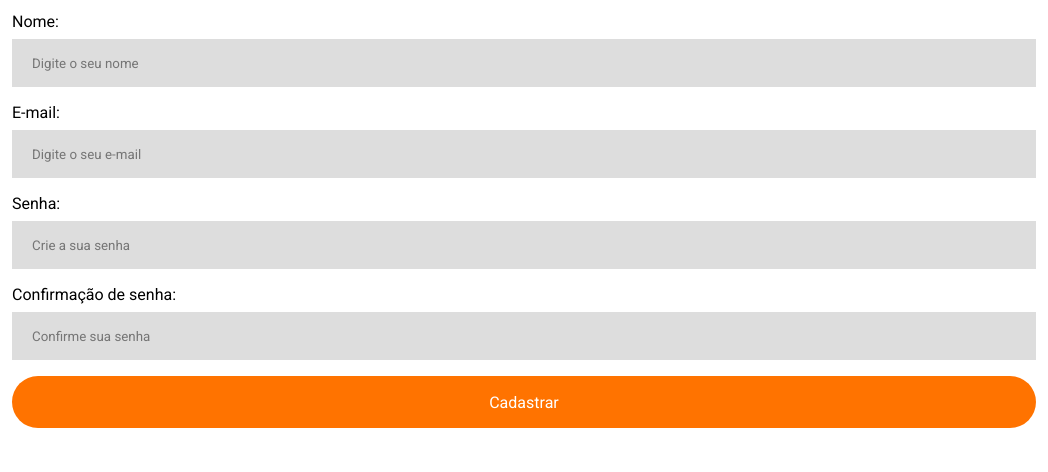
Scenario: <RegisterForm /> › should show error when name has less then three char
Expected: the field with placeholder "Digite o seu e-mail" is shown, left=12, top=130, right=1036, bottom=178
Expected: the password field with placeholder "Crie a sua senha" is shown, left=12, top=221, right=1036, bottom=269
Type "Ru" into the field with placeholder "Digite o seu nome".
click(524, 63); type("Ru")  # box left=12, top=39, right=1036, bottom=87
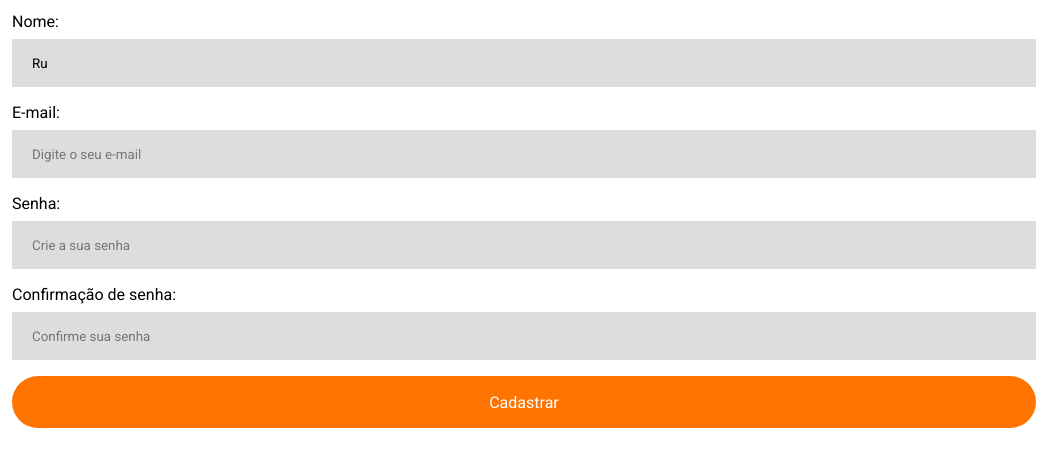
Type "josedasilva@email.com" into the field with placeholder "Digite o seu e-mail".
click(524, 154); type("josedasilva@email.com")  # box left=12, top=130, right=1036, bottom=178
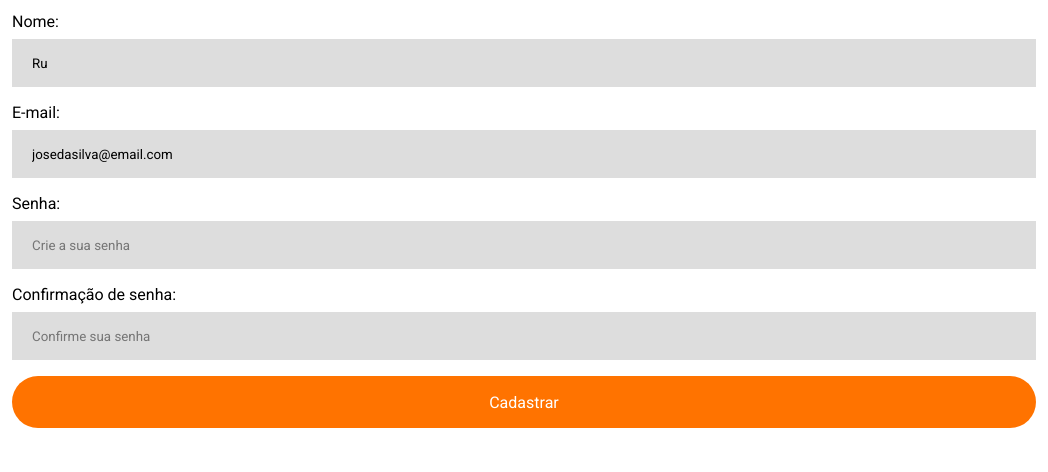
Type "@12Patinhos" into the password field with placeholder "Crie a sua senha".
click(524, 245); type("@12Patinhos")  # box left=12, top=221, right=1036, bottom=269
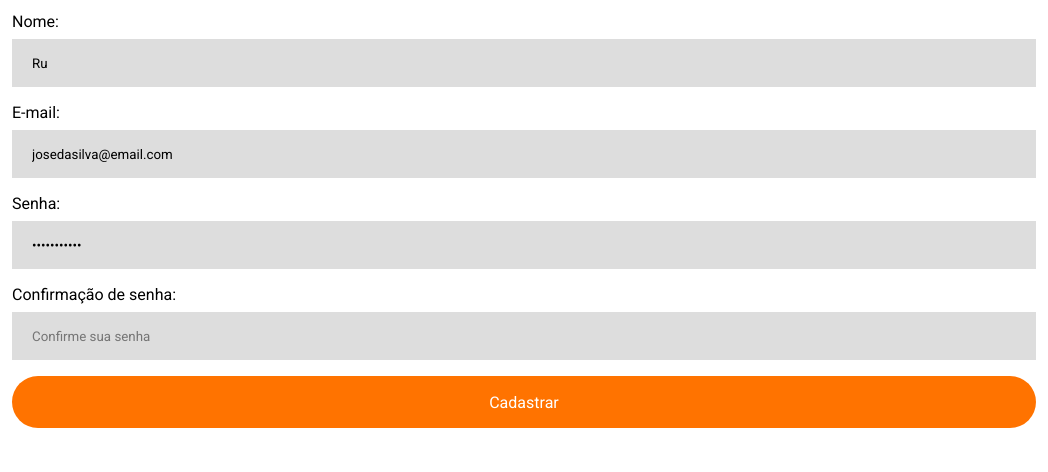
Type "@12Patinhos" into the password field with placeholder "Confirme sua senha".
click(524, 336); type("@12Patinhos")  # box left=12, top=312, right=1036, bottom=360
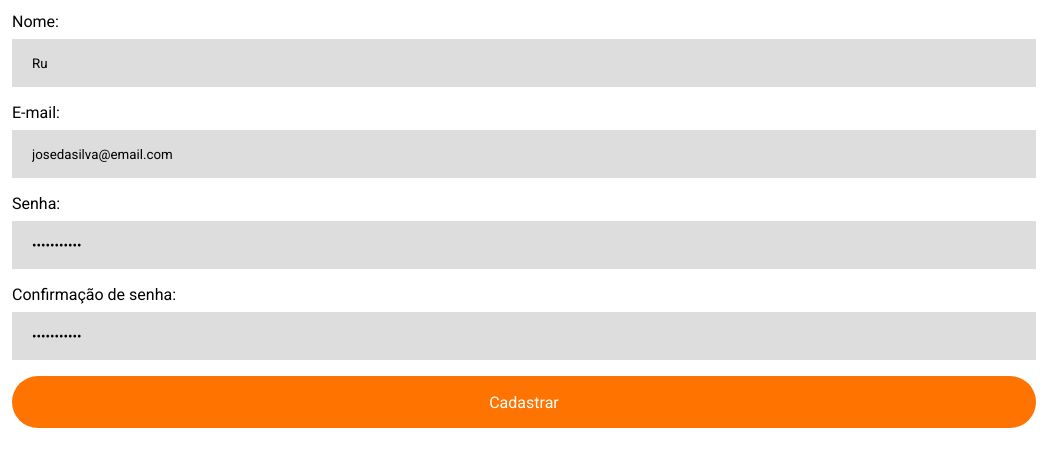
Submit the form from the button "Cadastrar", box left=12, top=376, right=1036, bottom=428
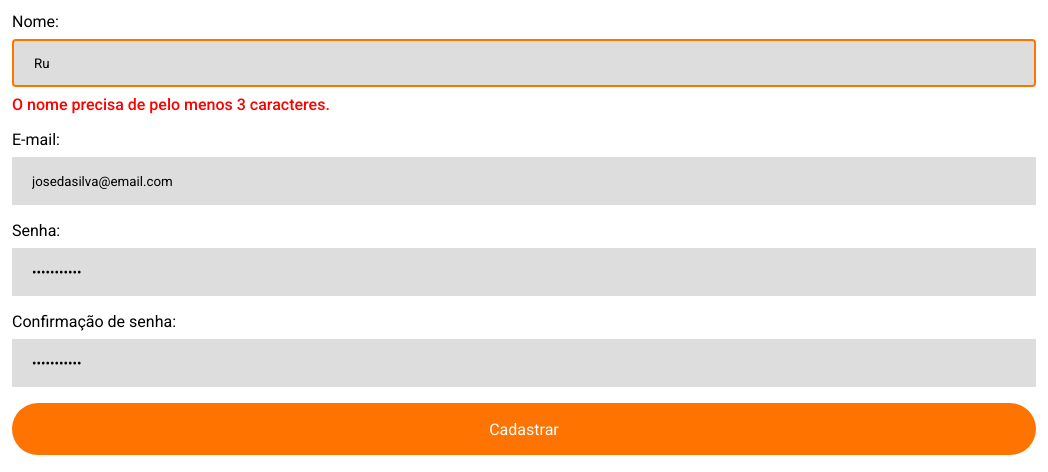
Expected: the text "O nome precisa de pelo menos 3 caracteres." is shown, left=12, top=95, right=330, bottom=114
